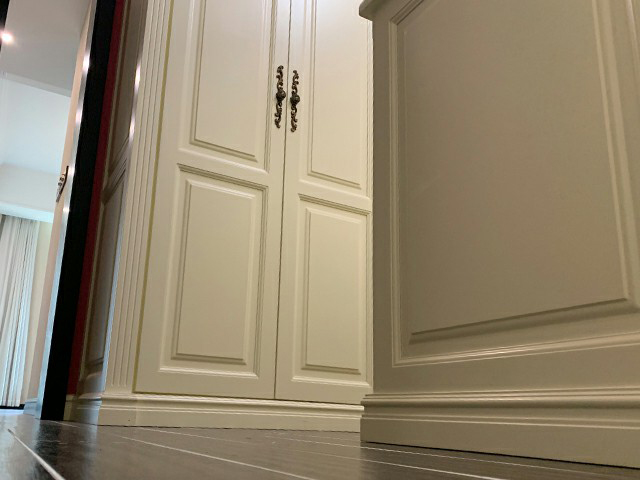cabinet: (63, 1, 372, 430), (357, 1, 640, 468)
curtain: (1, 214, 40, 408)
